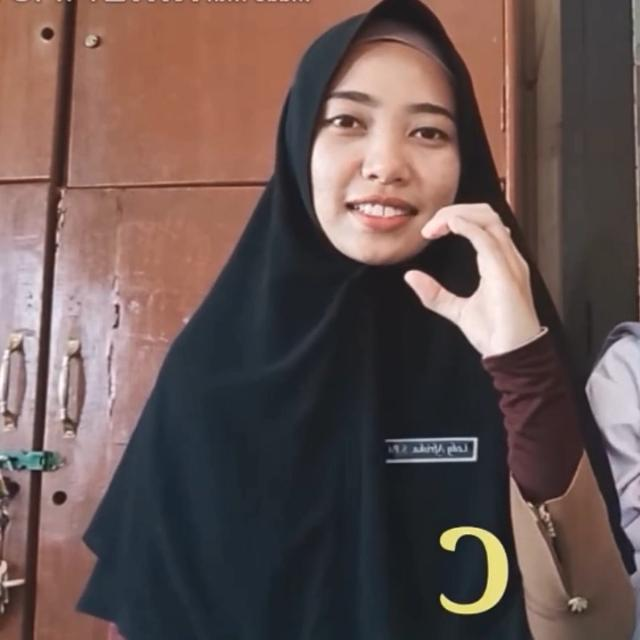C: (402, 202, 532, 352)
